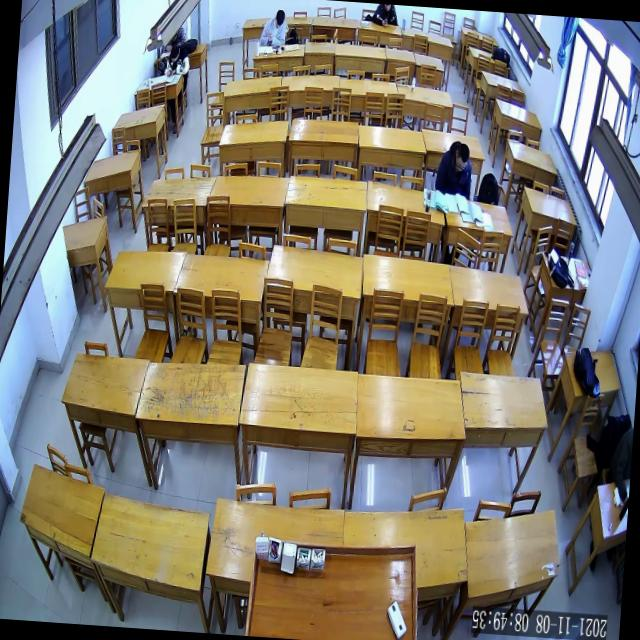down: (454, 142, 469, 172), (274, 8, 285, 28), (170, 44, 180, 61)
sit: (434, 140, 474, 200), (259, 7, 289, 47), (163, 43, 190, 79)
